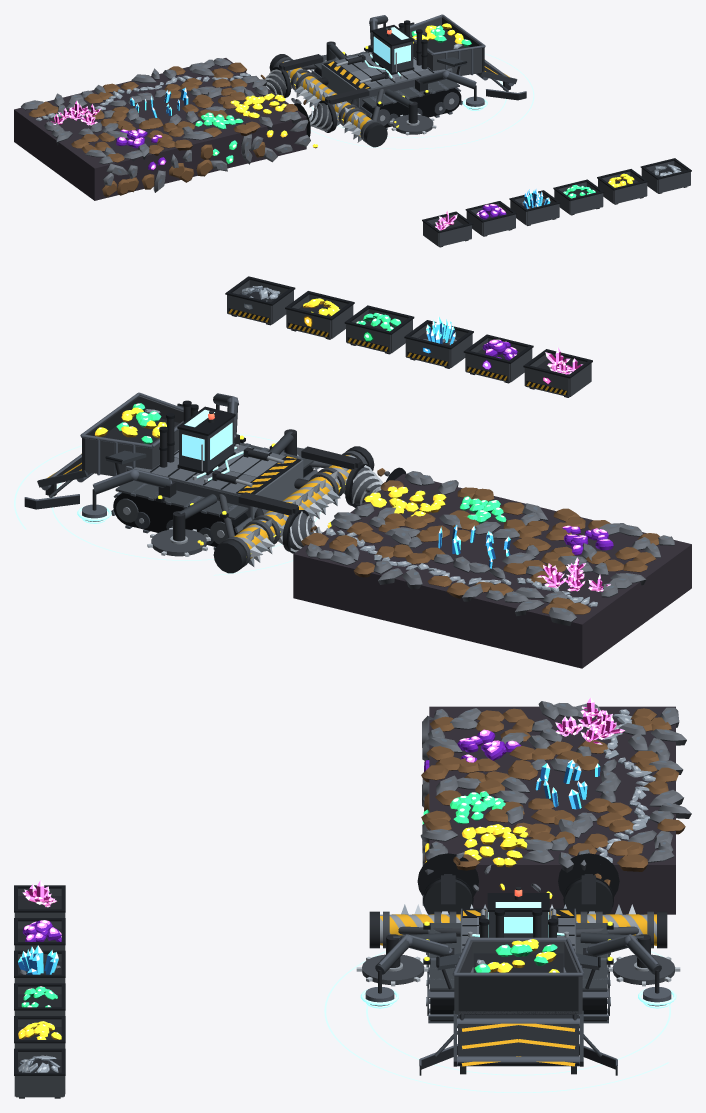
The model's file is supermine-island.glb.
3 renders of one model, top to bottom at view 1: azimuth 30°, elevation 25°; view 2: azimuth 150°, elevation 25°; view 3: azimuth 270°, elevation 25°, orthographic. The views are drawn at different scales.
Visible parts, largest first — view 1: SMv2 matte, SMv2 satin, SMv2 metal, SMv2 gold, SMv2 emerald, SMv2 gloss, SMv2 magnet coil, SMv2 cab glass, SMv2 starcore, SMv2 crystal; view 2: SMv2 matte, SMv2 satin, SMv2 metal, SMv2 gold, SMv2 emerald, SMv2 gloss, SMv2 cab glass, SMv2 starcore, SMv2 magnet coil, SMv2 crystal; view 3: SMv2 satin, SMv2 matte, SMv2 metal, SMv2 gold, SMv2 magnet coil, SMv2 emerald, SMv2 gloss, SMv2 starcore, SMv2 crystal, SMv2 cab glass.
Boxes of the visible parts, box(x1,y1,x2,y2) form: SMv2 matte: box(14, 58, 545, 208); SMv2 satin: box(266, 14, 691, 247); SMv2 metal: box(30, 26, 681, 219); SMv2 gold: box(230, 23, 634, 187); SMv2 emerald: box(195, 25, 595, 198); SMv2 gloss: box(51, 40, 590, 229); SMv2 magnet coil: box(309, 53, 534, 149); SMv2 cab glass: box(373, 27, 410, 64); SMv2 starcore: box(50, 100, 457, 230); SMv2 crystal: box(130, 87, 550, 208); SMv2 matte: box(113, 332, 691, 668); SMv2 satin: box(24, 276, 592, 573); SMv2 metal: box(95, 285, 668, 612); SMv2 gold: box(95, 298, 446, 528); SMv2 emerald: box(116, 313, 506, 521); SMv2 gloss: box(120, 316, 607, 589); SMv2 cab glass: box(182, 409, 232, 460); SMv2 starcore: box(537, 347, 610, 591); SMv2 magnet coil: box(14, 433, 320, 575); SMv2 crystal: box(423, 317, 510, 568); SMv2 satin: box(14, 853, 675, 1098); SMv2 matte: box(19, 701, 691, 1021); SMv2 metal: box(18, 703, 680, 1072); SMv2 gold: box(18, 824, 559, 1039); SMv2 magnet coil: box(324, 951, 676, 1093); SMv2 emerald: box(21, 791, 557, 1007); SMv2 gloss: box(18, 703, 620, 1000); SMv2 starcore: box(23, 698, 624, 907); SMv2 crystal: box(18, 760, 600, 974); SMv2 cab glass: box(488, 902, 548, 937).
Size of the model in its own units: 13.78 by 2.22 by 11.4.
